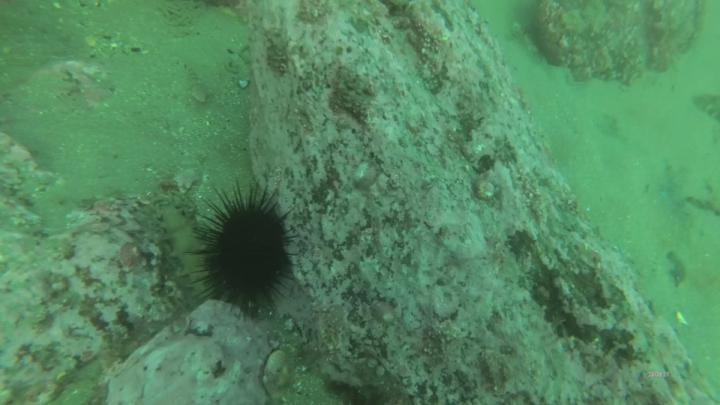echinus: (196, 192, 294, 324)
holothurian: (156, 196, 213, 303)
